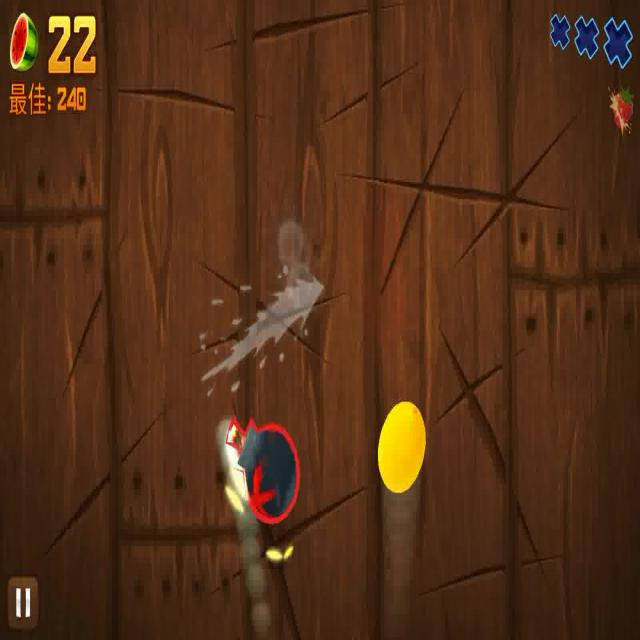bomb: (214, 414, 310, 528)
fruit: (377, 390, 430, 503)
